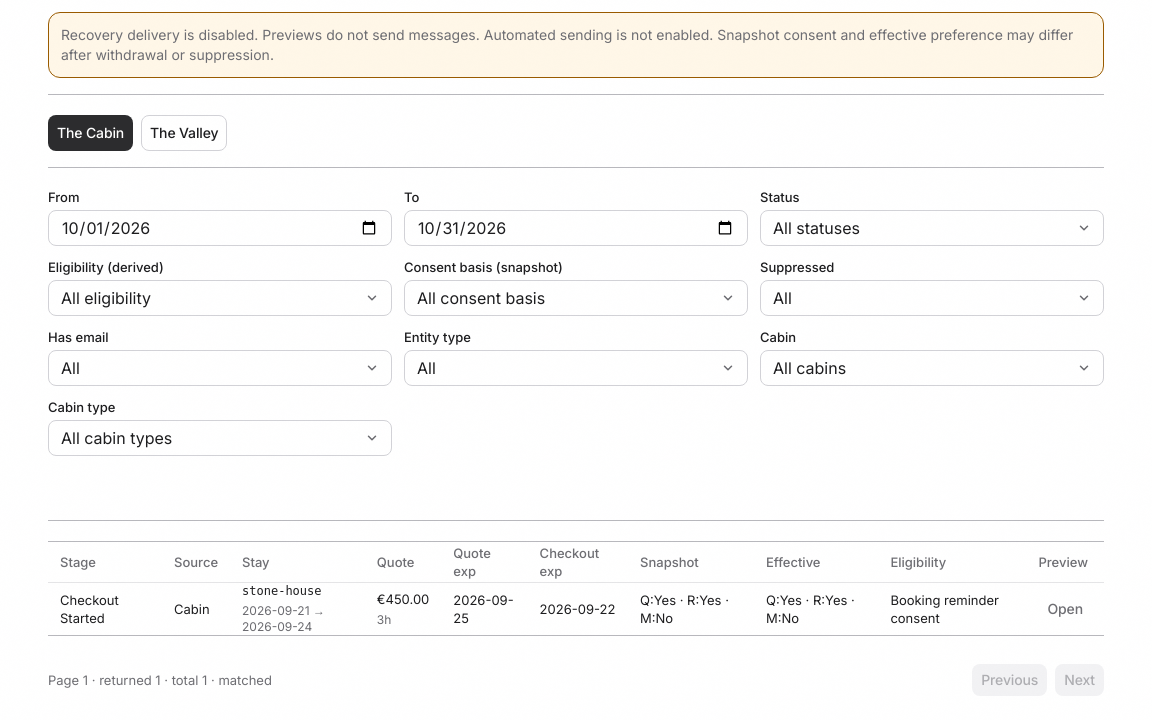
Scenario: OpsConversionRecovery migration › opens detail, previews message, and generates links with exact helpers
(page scrolled)
Expected: the element with test id "recovery-table" is shown, [48,520,1104,719]
Click the button "Open" at (1065, 608), box [1038,592,1092,624]
(page scrolled)
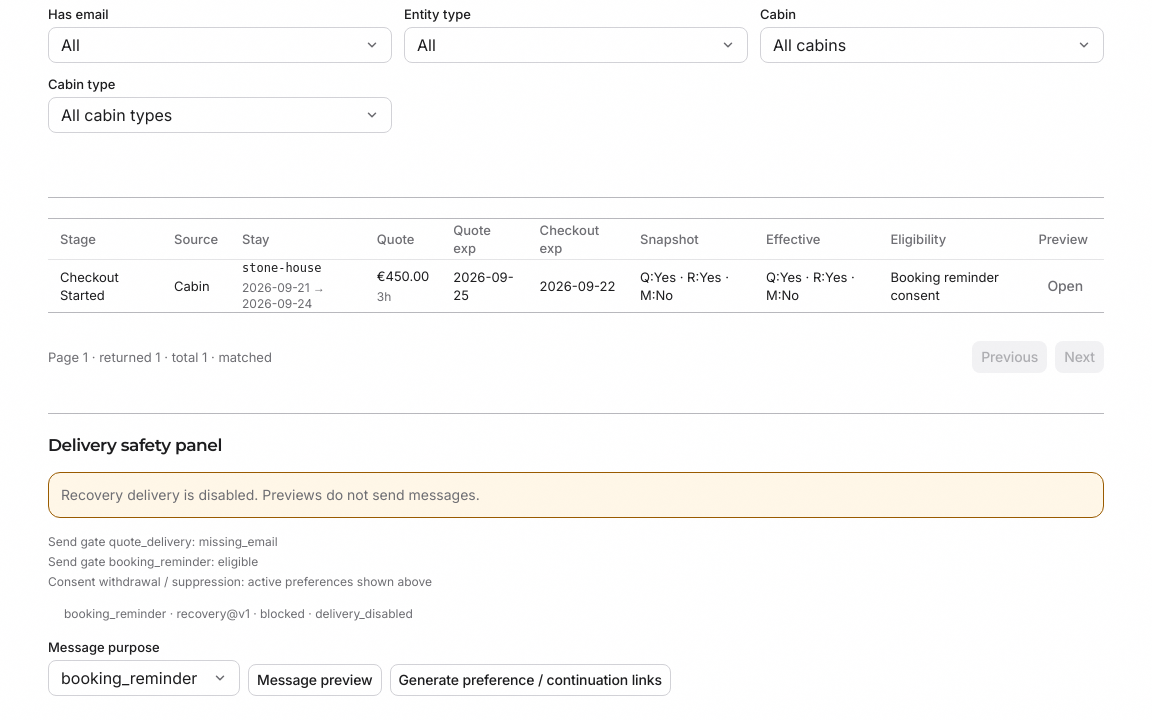
Now the element with test id "recovery-detail" is shown, box [48,412,1104,719]
Now the text "Send gate quote_delivery: missing_email" is shown, box [48,534,278,548]
Now the text "Send gate booking_reminder: eligible" is shown, box [48,554,258,568]
Select "quote_delivery" in the dropdown labelled "Message purpose" at (144, 678), box [48,660,240,696]
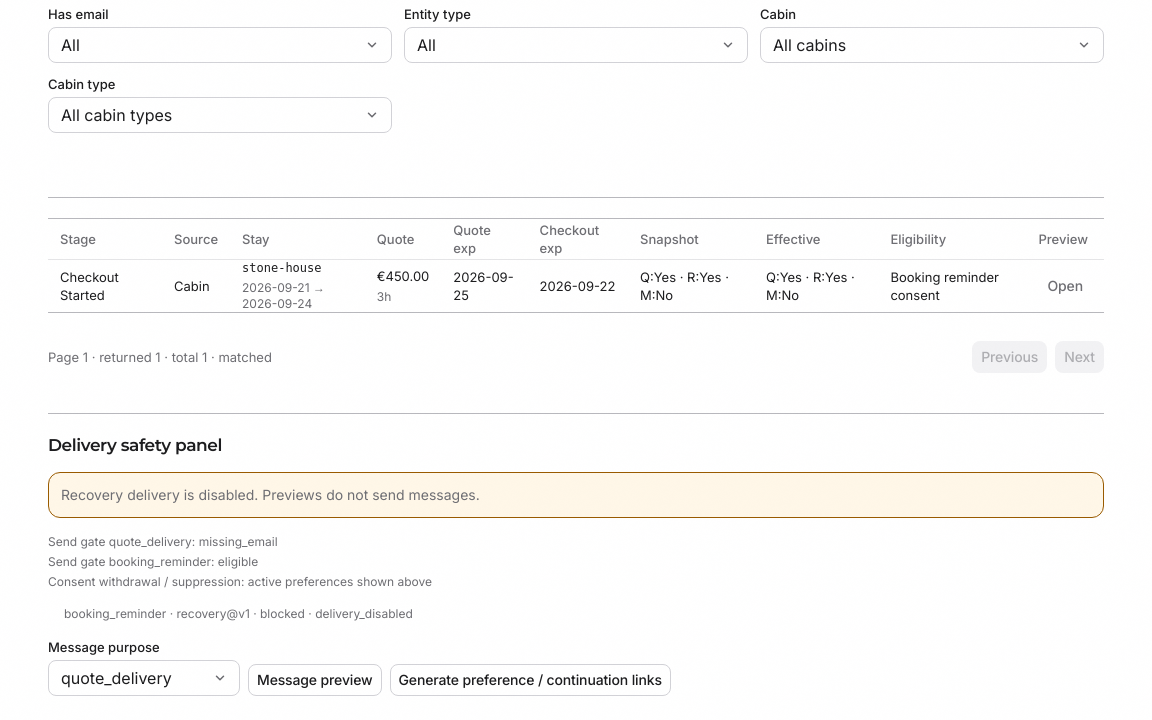
Click the button "Message preview" at (315, 680), box [248,664,382,696]
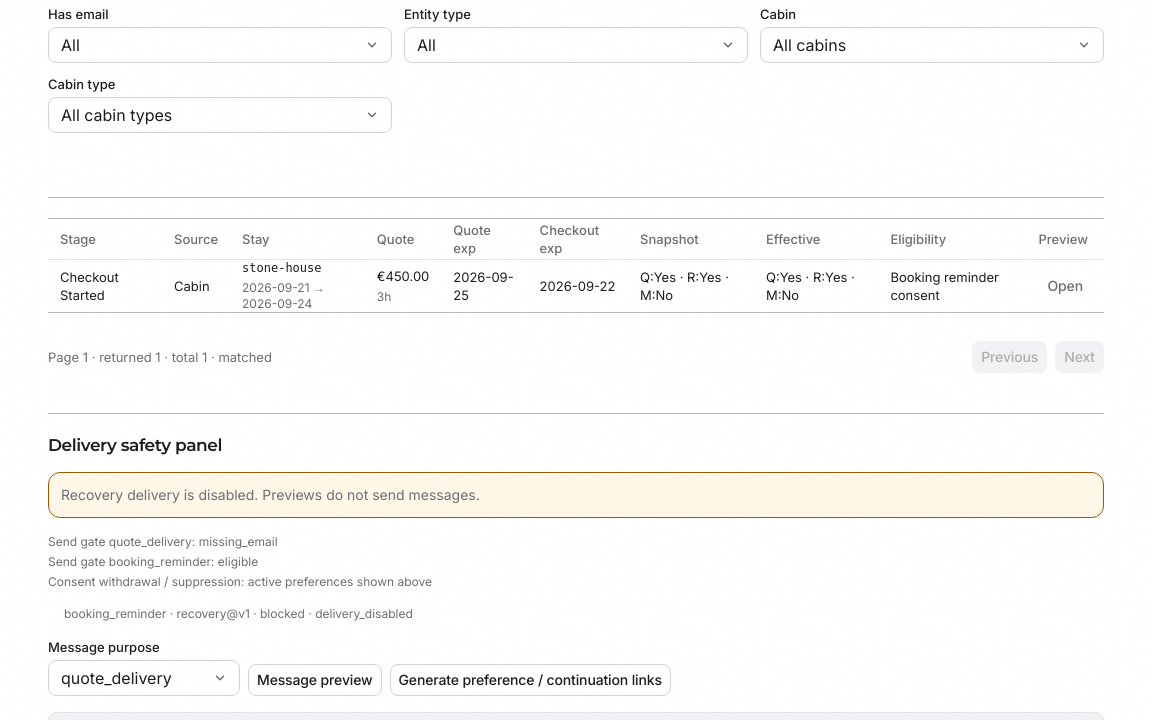
Click the button "Generate preference / continuation links" at (530, 680), box [390,664,671,696]
(page scrolled)
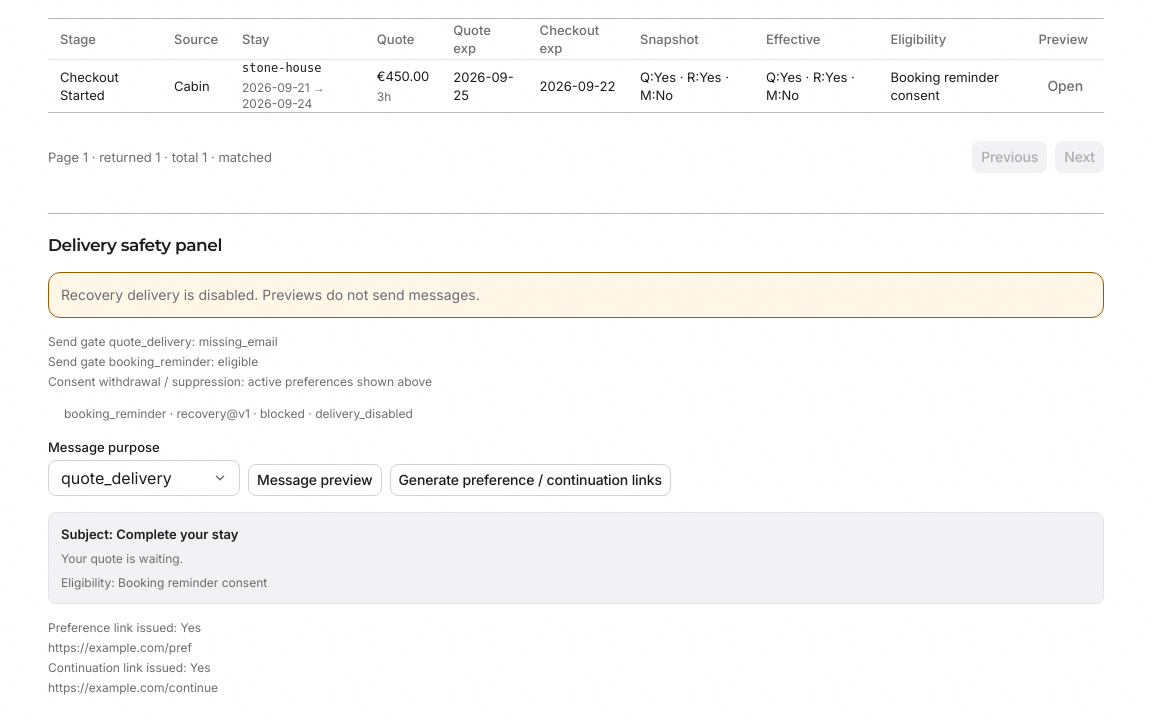
Now the text "Preference link issued: Yes" is shown, box [48,620,201,634]
Now the text "https://example.com/pref" is shown, box [48,640,192,654]
Now the text "Continuation link issued: Yes" is shown, box [48,660,211,674]
